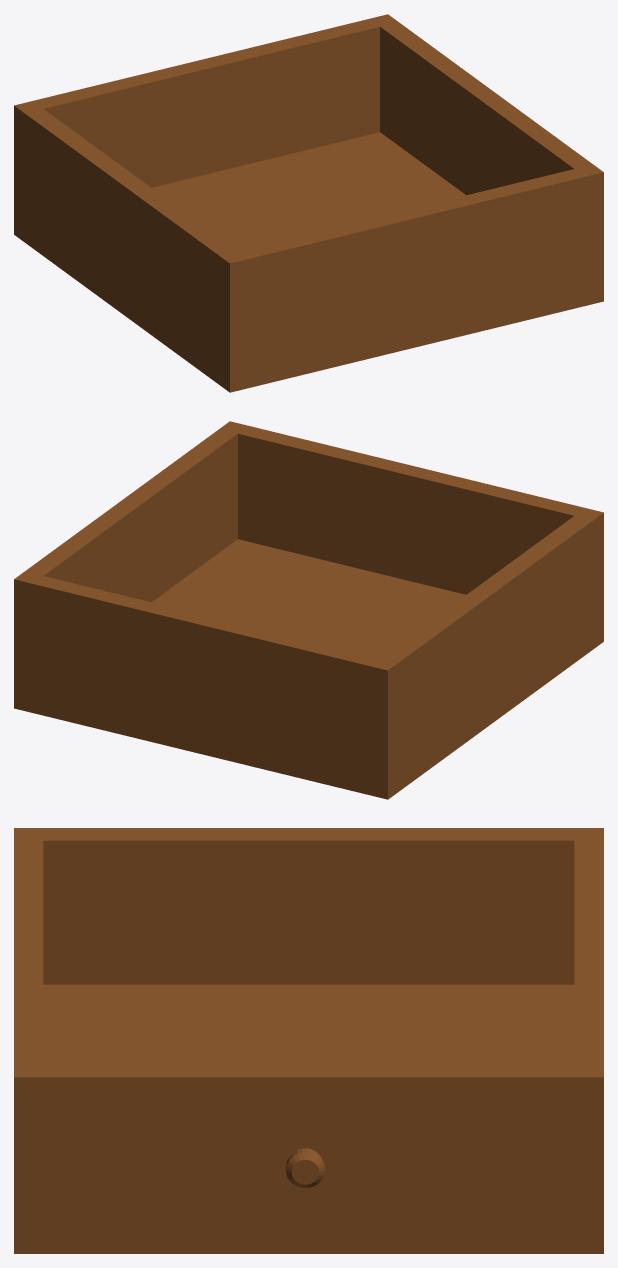
File: drawer.obj
3 views of the same model, one above another, from view 1: azimuth 30°, elevation 25°; view 2: azimuth 150°, elevation 25°; view 3: azimuth 270°, elevation 25° (orthographic). The views are drawn at different scales.
Visible parts, largest first — view 1: Cube.007_Cube.008; view 2: Cube.007_Cube.008; view 3: Cube.007_Cube.008.
Boxes of the visible parts, x1,y1,x2,y2 form: Cube.007_Cube.008: (14,14,603,392); Cube.007_Cube.008: (14,421,603,799); Cube.007_Cube.008: (14,828,603,1253).
Bounding box in the file's own units: 1.87 × 0.594 × 1.8.
